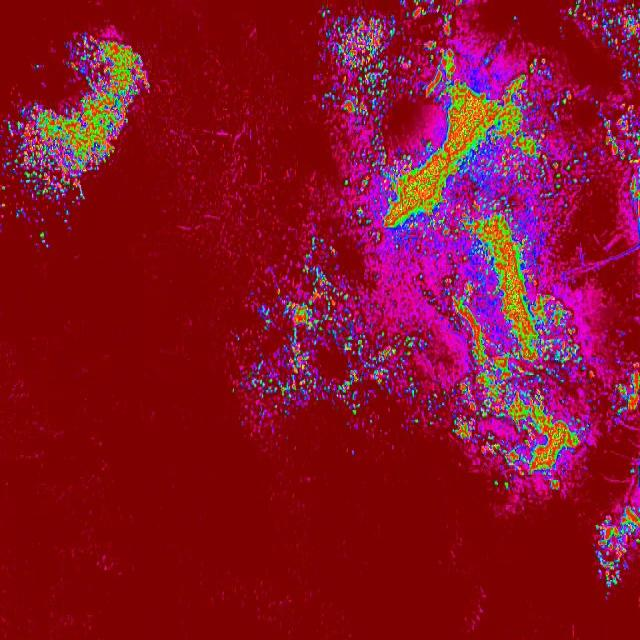fire: (432, 46, 596, 488), (318, 139, 432, 412), (244, 261, 432, 414), (320, 0, 388, 140), (601, 101, 640, 241), (86, 28, 146, 107), (591, 504, 640, 594), (5, 104, 124, 140), (388, 0, 479, 46), (566, 0, 640, 49), (4, 140, 114, 170), (4, 172, 83, 212), (388, 46, 432, 100), (612, 367, 640, 421)
